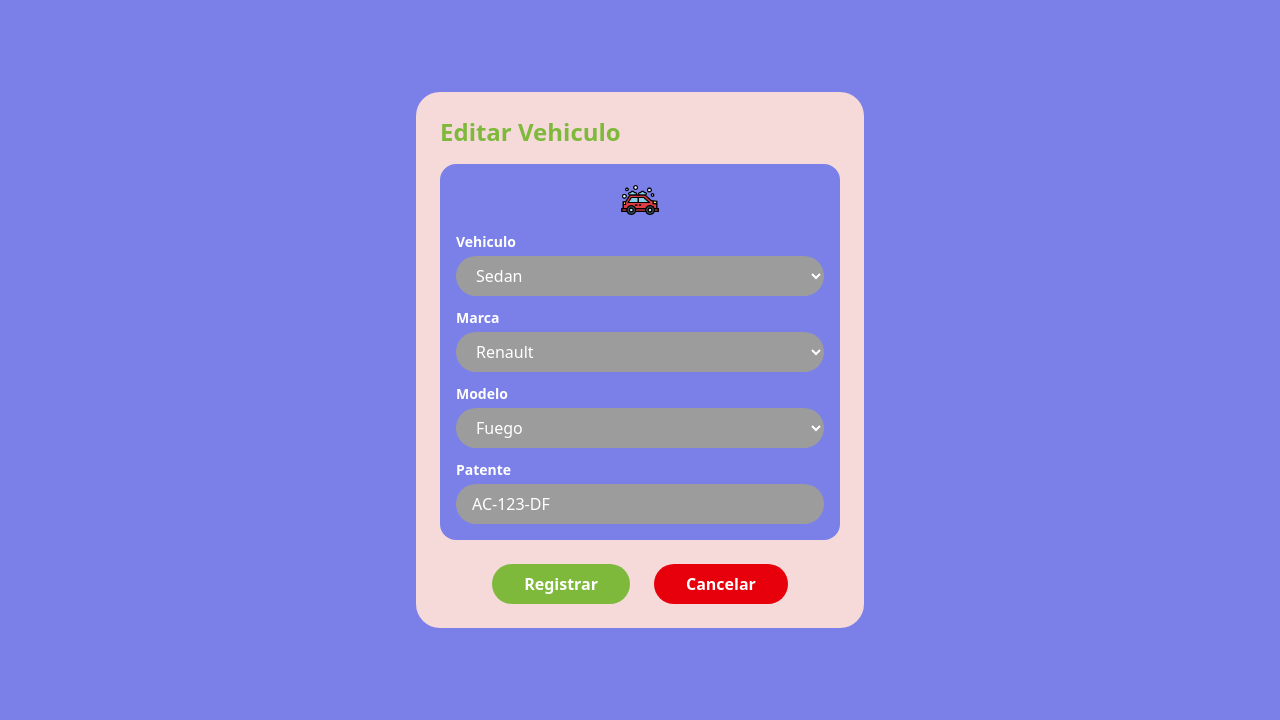
EditarVehiculoPage › acepta la propia patente sin marcarla como duplicada
The image size is (1280, 720).
Expected: the heading "Editar Vehiculo" is shown, [440,115,621,148]
Click the button "Registrar".
click(561, 584)  # box [492,564,630,604]
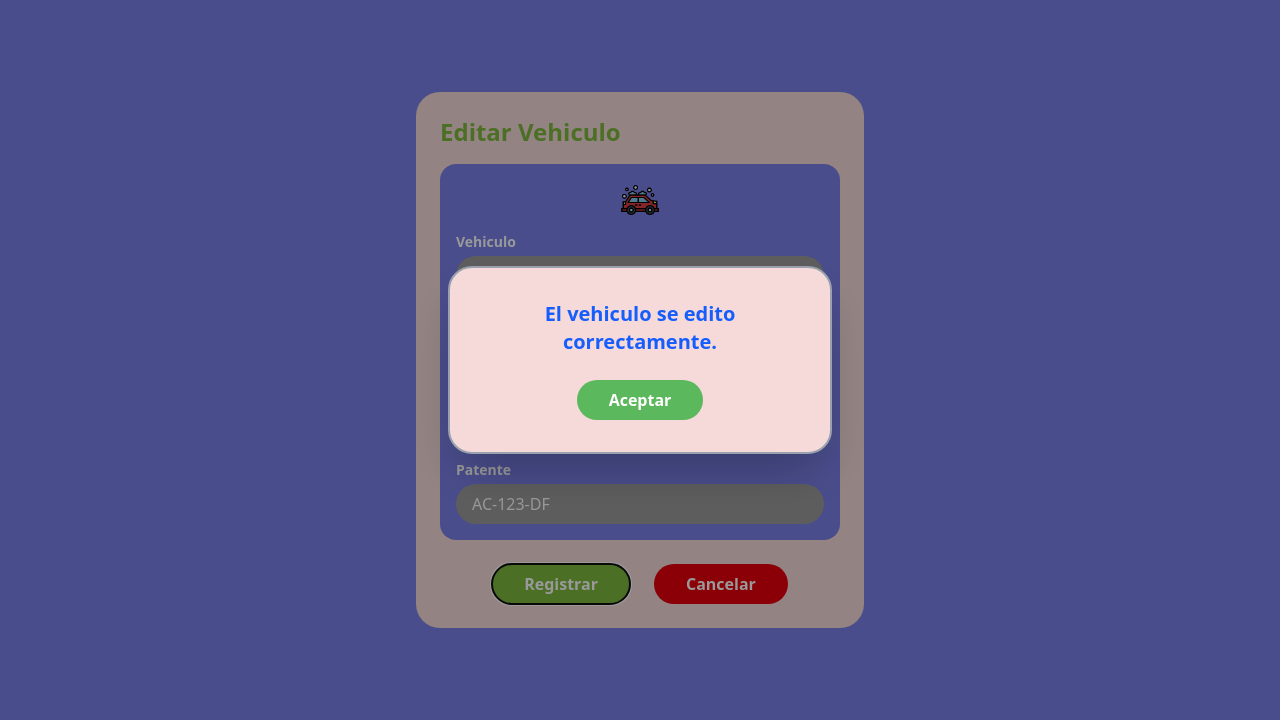
Now the text "El vehiculo se edito correctamente." is shown, box [545,300,735,355]
